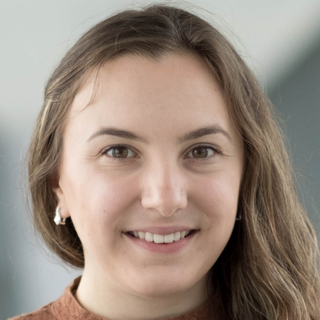eye: (173, 138, 228, 169), (95, 142, 147, 172)
